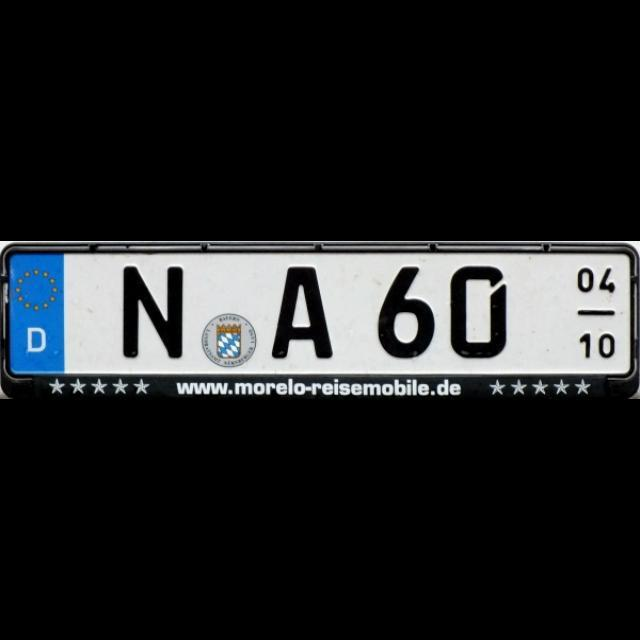license-plates: (0, 243, 640, 398)
